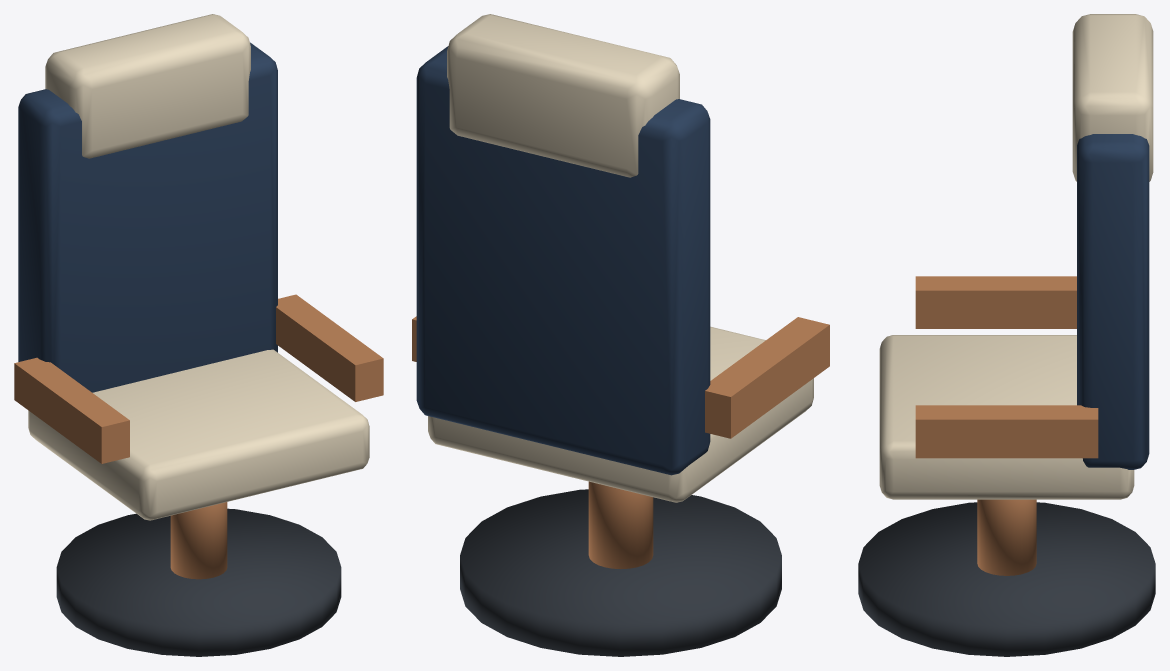
Rendered from desk_chair.glb.
3 renders of one model, left to right at view 1: azimuth 30°, elevation 25°; view 2: azimuth 150°, elevation 25°; view 3: azimuth 270°, elevation 25°, orthographic. The views are drawn at different scales.
Parts seen in each view (by area): view 1: swivel_navy, swivel_cream, root_charcoal, swivel_copper, root_copper; view 2: swivel_navy, root_charcoal, swivel_cream, swivel_copper, root_copper; view 3: swivel_cream, root_charcoal, swivel_navy, swivel_copper, root_copper.
Boxes of the visible parts, left/top/right/bottom form: swivel_navy: left=18, top=42, right=277, bottom=392; swivel_cream: left=28, top=14, right=369, bottom=520; root_charcoal: left=56, top=508, right=341, bottom=656; swivel_copper: left=14, top=294, right=383, bottom=463; root_copper: left=170, top=502, right=227, bottom=579; swivel_navy: left=416, top=46, right=710, bottom=475; root_charcoal: left=460, top=489, right=781, bottom=656; swivel_cream: left=428, top=14, right=813, bottom=502; swivel_copper: left=412, top=316, right=829, bottom=438; root_copper: left=588, top=481, right=653, bottom=568; swivel_cream: left=879, top=14, right=1153, bottom=499; root_charcoal: left=858, top=502, right=1155, bottom=656; swivel_navy: left=1077, top=134, right=1149, bottom=469; swivel_copper: left=915, top=276, right=1098, bottom=458; root_copper: left=977, top=499, right=1036, bottom=575.
Bounding box in the file's own units: 0.8 × 1.41 × 0.7.
